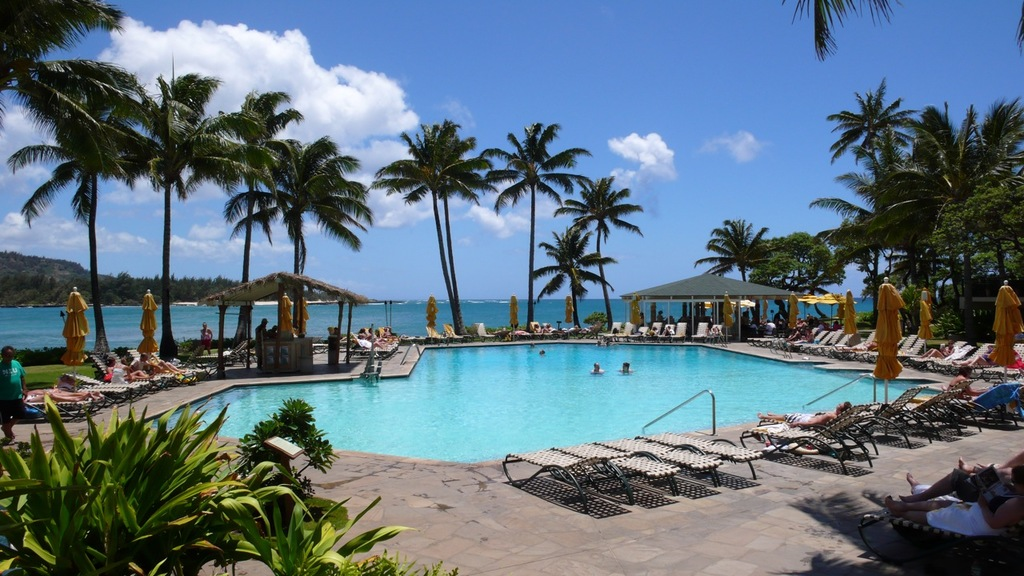Tree: (0, 0, 1023, 360)
